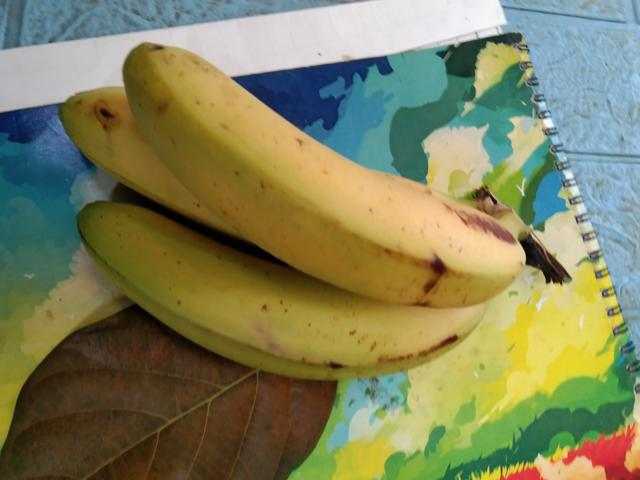ripe: (115, 33, 522, 306), (70, 198, 477, 376)
